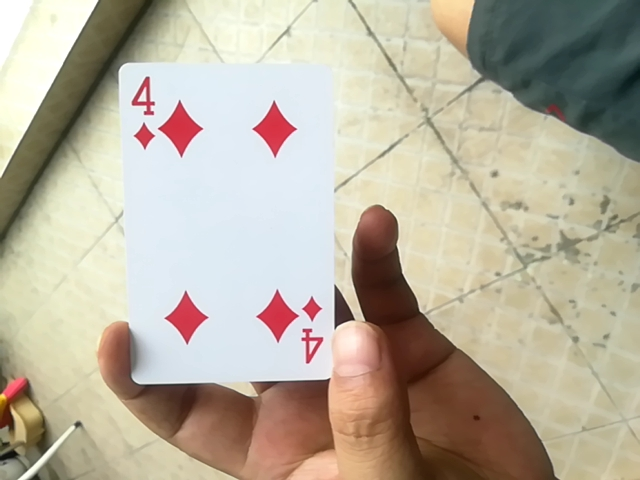fk 4: (111, 61, 340, 383)
